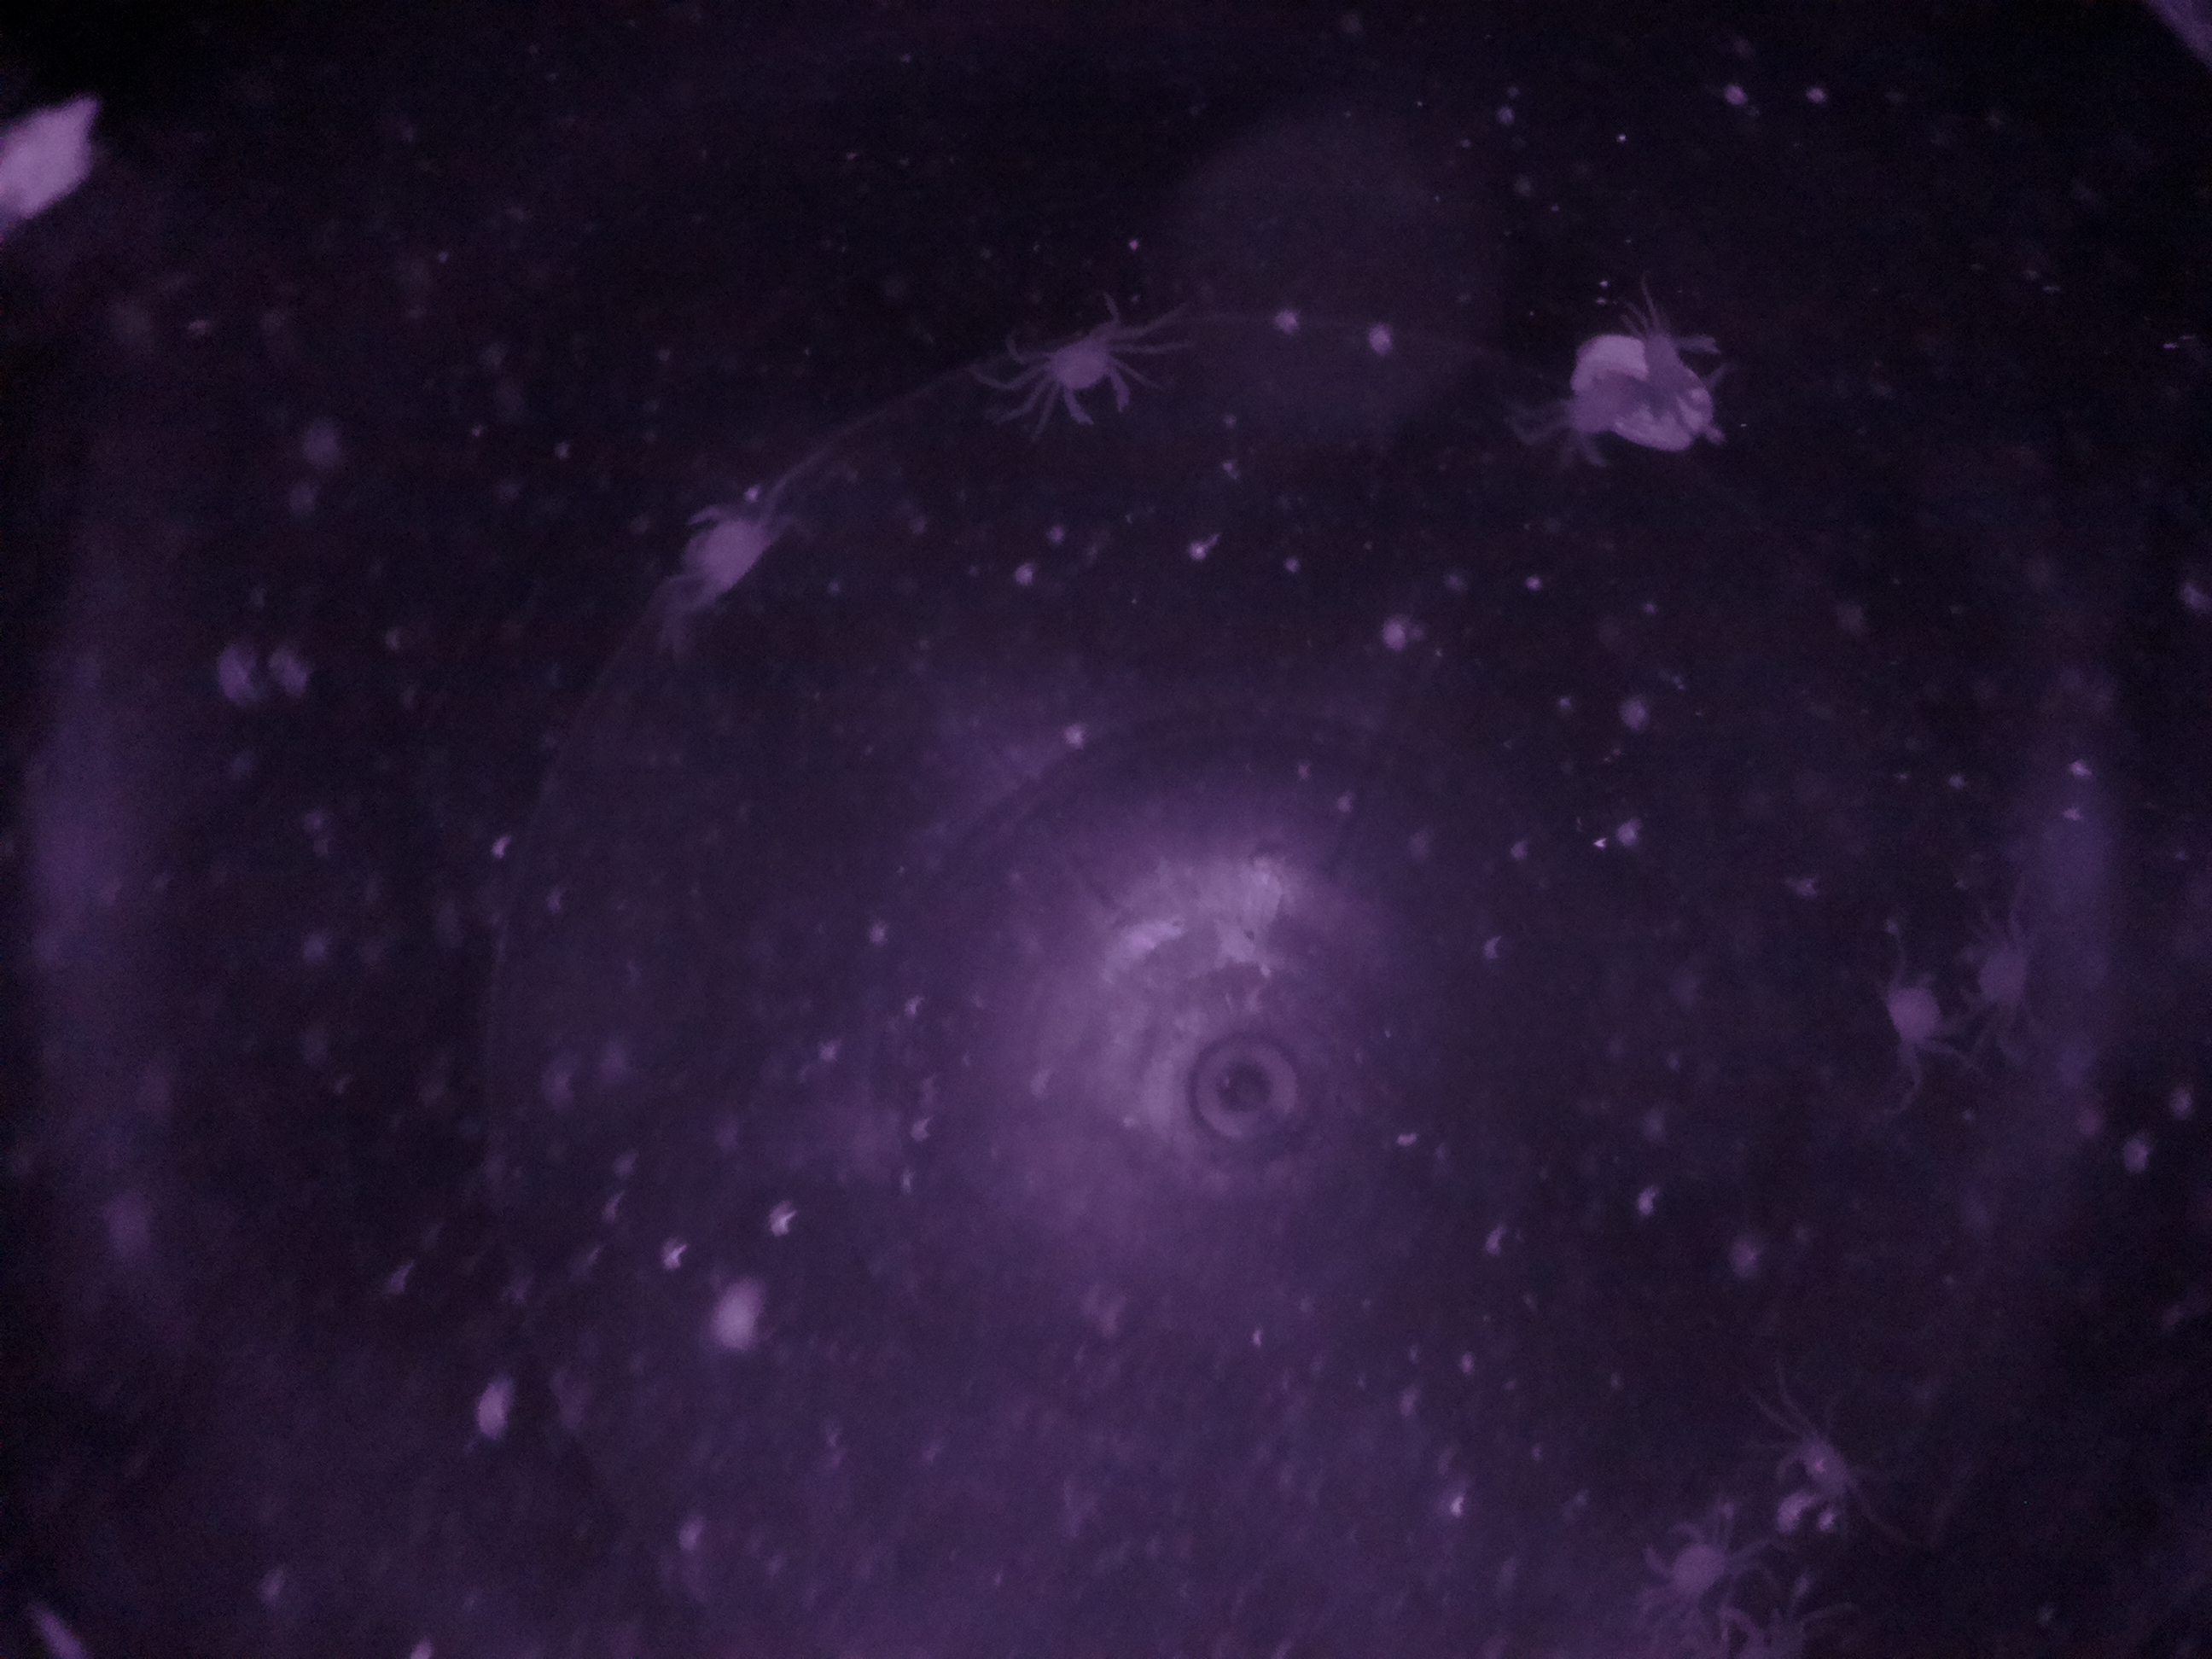Crab: (1022, 314, 1148, 434), (1860, 950, 1966, 1066)
